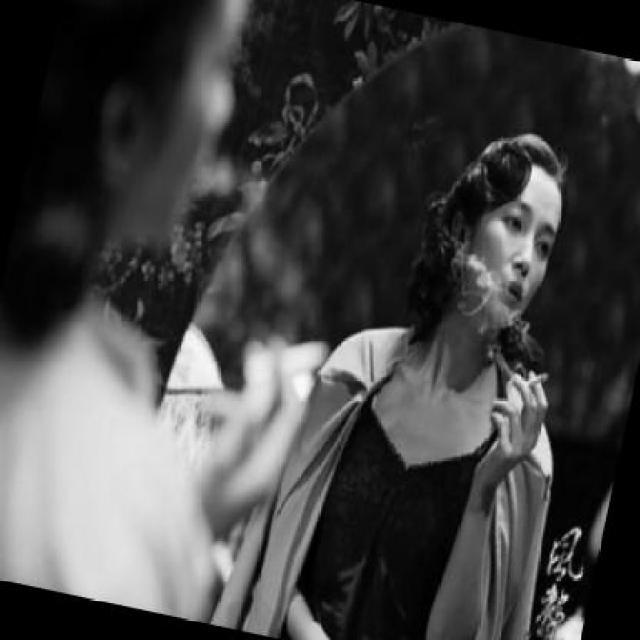smoke: (247, 324, 336, 388), (522, 368, 550, 392)
